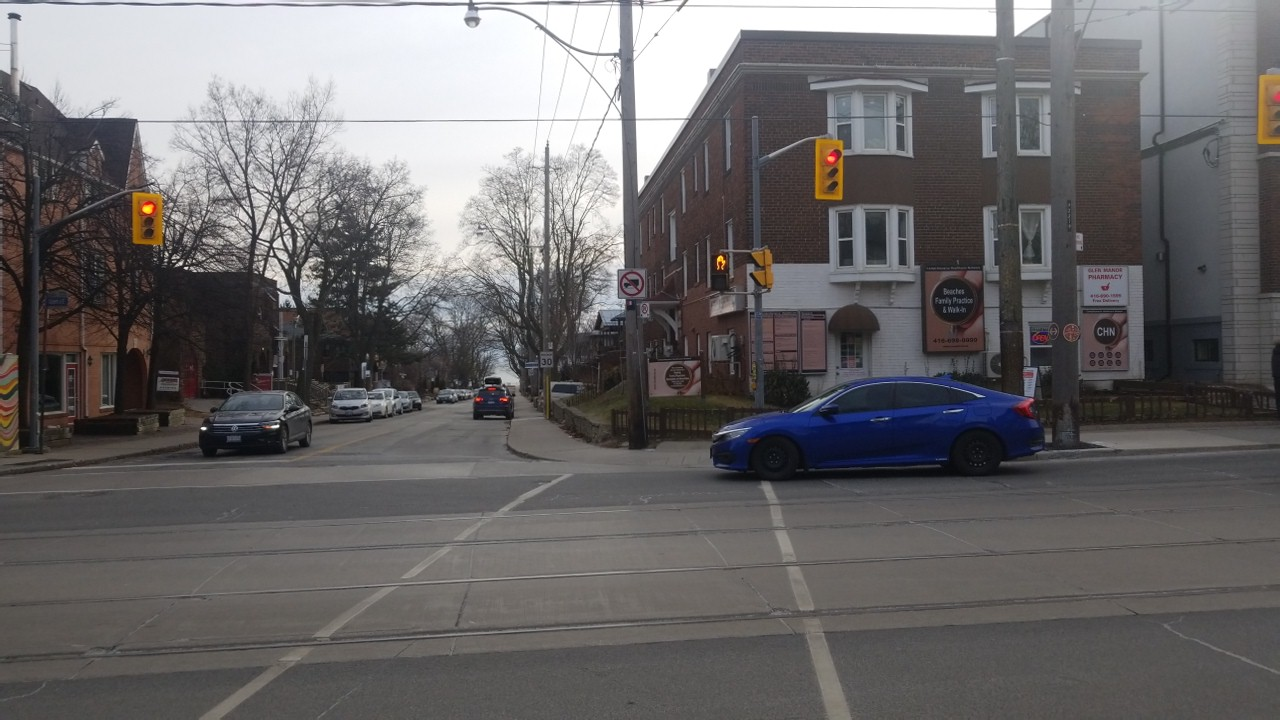light: (708, 250, 730, 291)
